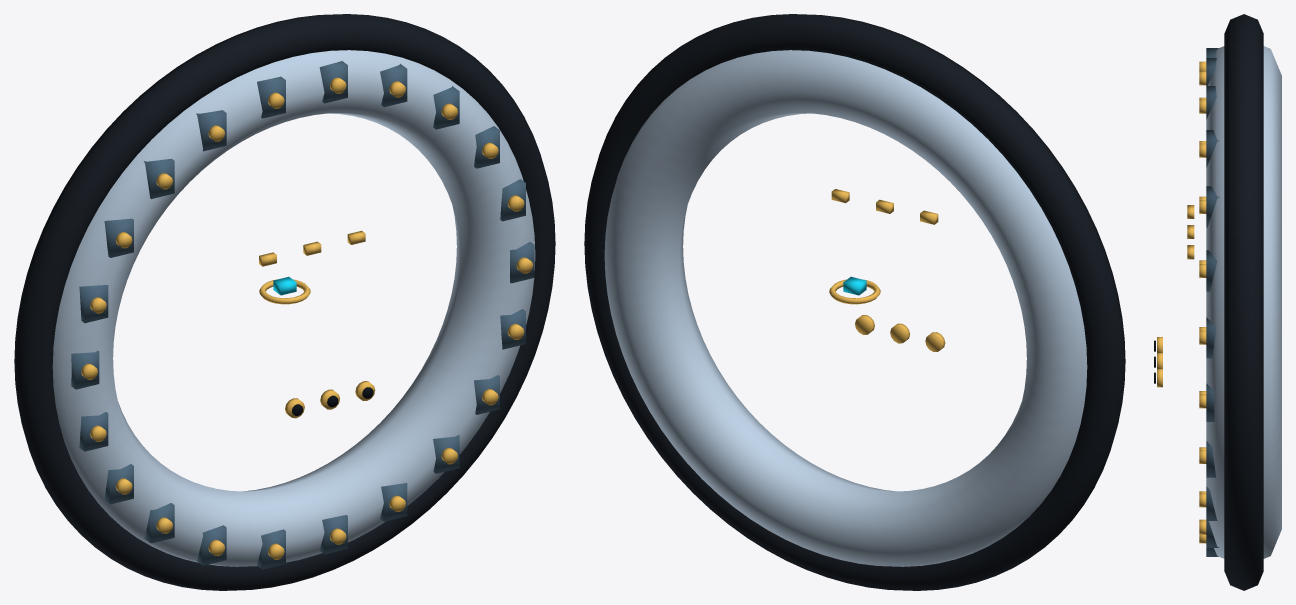
The model's file is 19_L93_XRayCTRotatingBore.fbx.
The picture shows the model from 3 angles, left to right: view 1: azimuth 30°, elevation 25°; view 2: azimuth 150°, elevation 25°; view 3: azimuth 270°, elevation 25°; orthographic projection. The views are drawn at different scales.
Visible parts, largest first — view 1: L92_XRayCTRotatingBore_Part_0000, L92_XRayCTRotatingBore_Part_0002, L92_XRayCTRotatingBore_Part_0003, L92_XRayCTRotatingBore_Part_0005, L92_XRayCTRotatingBore_Part_0004; view 2: L92_XRayCTRotatingBore_Part_0000, L92_XRayCTRotatingBore_Part_0002; view 3: L92_XRayCTRotatingBore_Part_0002, L92_XRayCTRotatingBore_Part_0000, L92_XRayCTRotatingBore_Part_0003, L92_XRayCTRotatingBore_Part_0005, L92_XRayCTRotatingBore_Part_0004, L92_XRayCTRotatingBore_Part_0009, L92_XRayCTRotatingBore_Part_0006.
Boxes of the visible parts, x1=… form: L92_XRayCTRotatingBore_Part_0000: x1=52, y1=50, x2=535, y2=566; L92_XRayCTRotatingBore_Part_0002: x1=14, y1=14, x2=555, y2=590; L92_XRayCTRotatingBore_Part_0003: x1=71, y1=61, x2=534, y2=569; L92_XRayCTRotatingBore_Part_0005: x1=81, y1=77, x2=533, y2=559; L92_XRayCTRotatingBore_Part_0004: x1=474, y1=309, x2=525, y2=414; L92_XRayCTRotatingBore_Part_0000: x1=604, y1=50, x2=1087, y2=566; L92_XRayCTRotatingBore_Part_0002: x1=584, y1=14, x2=1125, y2=590; L92_XRayCTRotatingBore_Part_0002: x1=1224, y1=14, x2=1263, y2=590; L92_XRayCTRotatingBore_Part_0000: x1=1206, y1=46, x2=1281, y2=558; L92_XRayCTRotatingBore_Part_0003: x1=1206, y1=48, x2=1219, y2=556; L92_XRayCTRotatingBore_Part_0005: x1=1199, y1=61, x2=1206, y2=543; L92_XRayCTRotatingBore_Part_0004: x1=1206, y1=441, x2=1217, y2=520; L92_XRayCTRotatingBore_Part_0009: x1=1187, y1=205, x2=1194, y2=259; L92_XRayCTRotatingBore_Part_0006: x1=1199, y1=450, x2=1206, y2=507.
Size of the model in its own units: 412 by 412 by 91.2.
